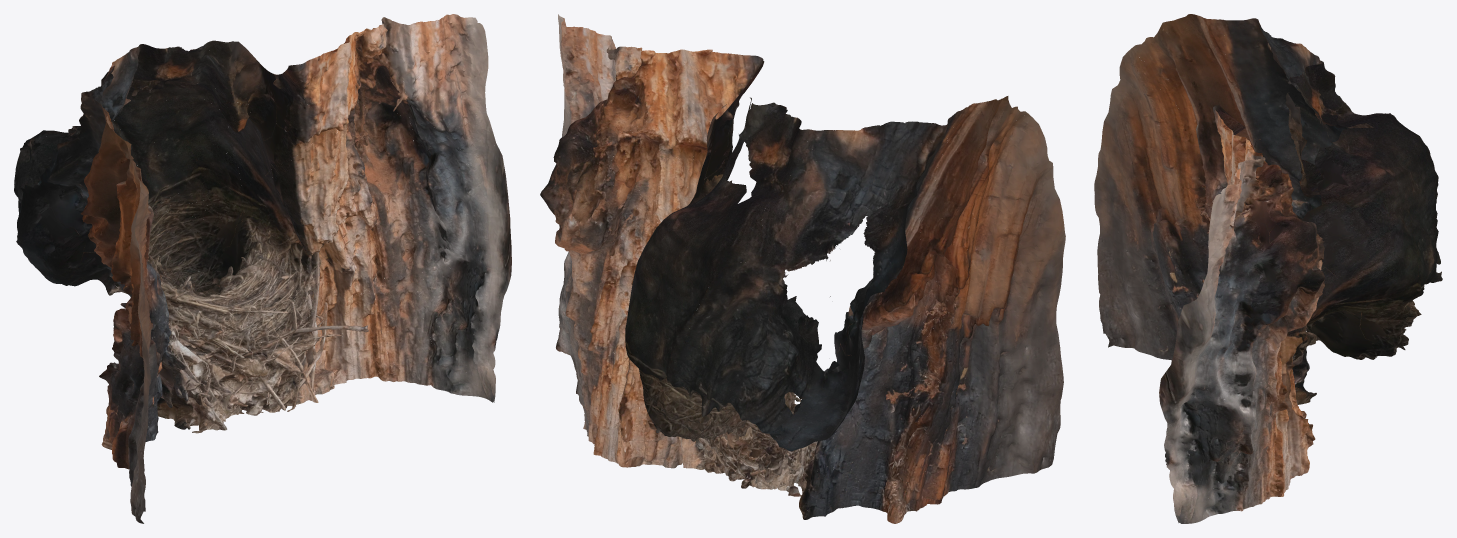
The model's file is sf-tree-hollow-bird-nest-488130.glb.
3 renders of one model, left to right at view 1: azimuth 30°, elevation 25°; view 2: azimuth 150°, elevation 25°; view 3: azimuth 270°, elevation 25°, orthographic. The views are drawn at different scales.
Parts seen in each view (by area): view 1: Model_material1_0, Model_material0_0; view 2: Model_material0_0, Model_material1_0; view 3: Model_material1_0, Model_material0_0.
Boxes of the visible parts, <box> form: Model_material1_0: <box>14,14,511,432</box>; Model_material0_0: <box>16,28,495,523</box>; Model_material0_0: <box>547,50,1065,523</box>; Model_material1_0: <box>540,14,1027,519</box>; Model_material1_0: <box>1132,14,1442,500</box>; Model_material0_0: <box>1094,18,1440,523</box>.
Bounding box in the file's own units: 8.41 × 7.2 × 6.7.
2 materials, 2 textured.
